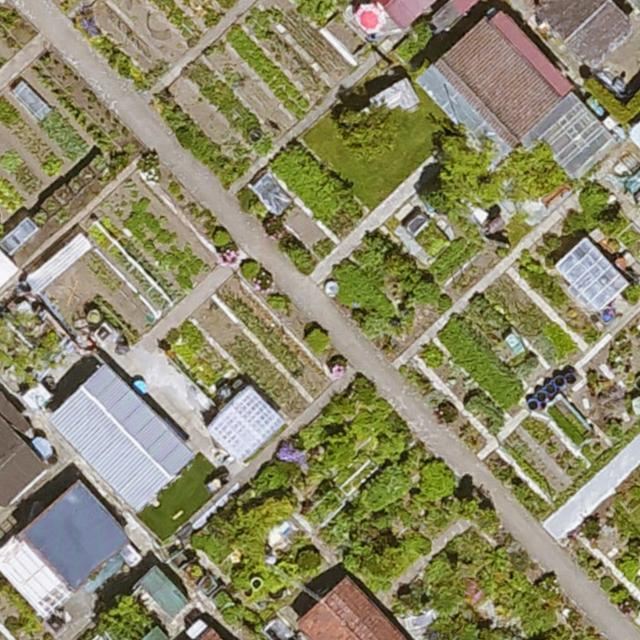tree: (434, 132, 500, 205), (508, 144, 566, 194), (336, 100, 395, 148)
